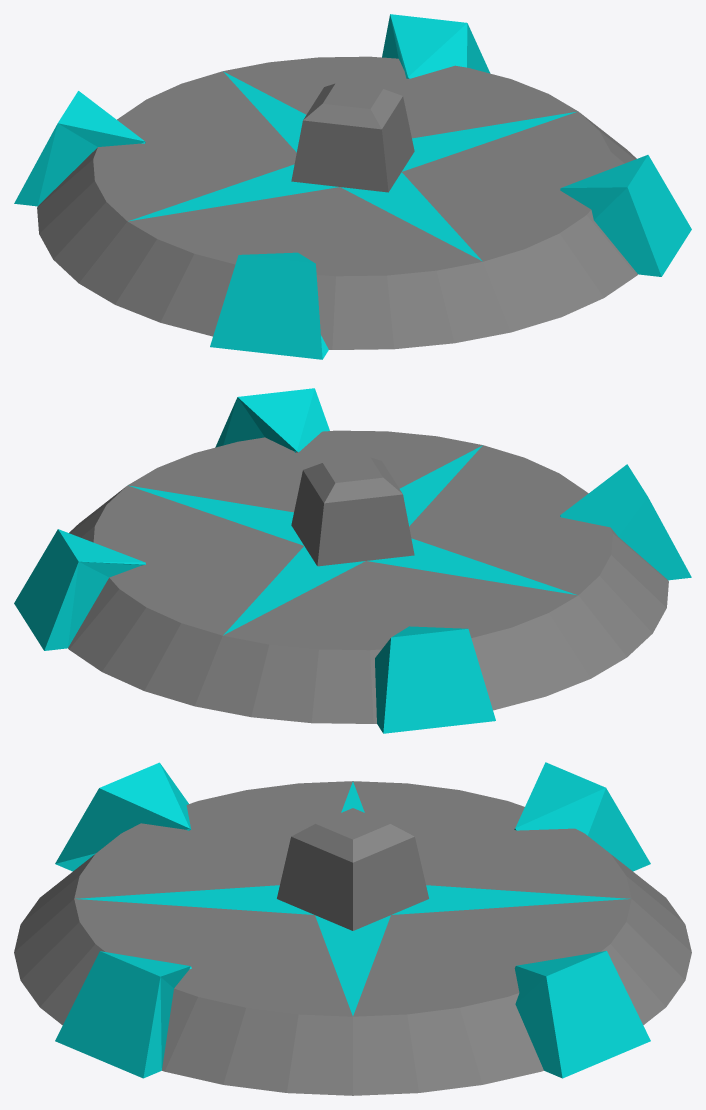
Rendered from Beyblade_Base_Ice.fbx.
3 renders of one model, top to bottom at view 1: azimuth 30°, elevation 25°; view 2: azimuth 150°, elevation 25°; view 3: azimuth 270°, elevation 25°, orthographic. The views are drawn at different scales.
Parts seen in each view (by area): view 1: Circle; view 2: Circle; view 3: Circle.
Part boxes in pixels (box(x1,y1,x2,y2)): Circle: box(14, 14, 691, 359); Circle: box(14, 388, 691, 733); Circle: box(14, 762, 691, 1095).
Size of the model in its own units: 200 by 41.92 by 200.
1 material, 1 textured.
